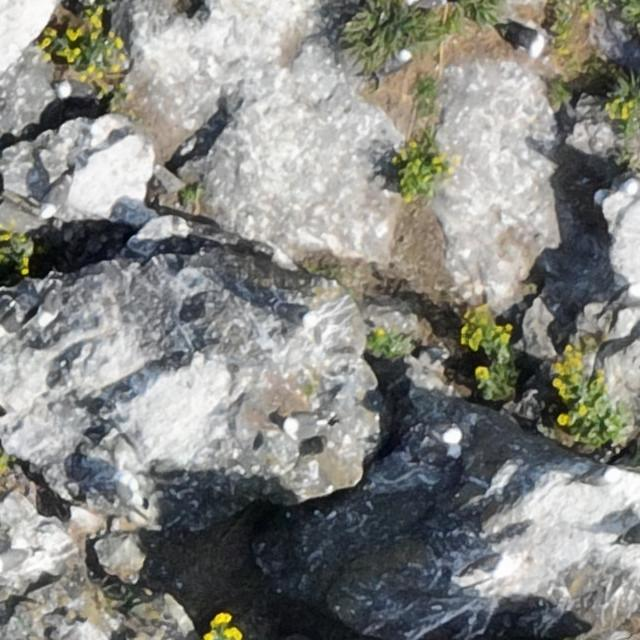umineko: (275, 301, 318, 327), (38, 285, 65, 325), (605, 286, 640, 314), (57, 78, 98, 101), (434, 420, 465, 446), (511, 29, 543, 52), (43, 182, 64, 217), (286, 414, 320, 433), (384, 49, 412, 72), (622, 523, 640, 542), (411, 0, 444, 8)
